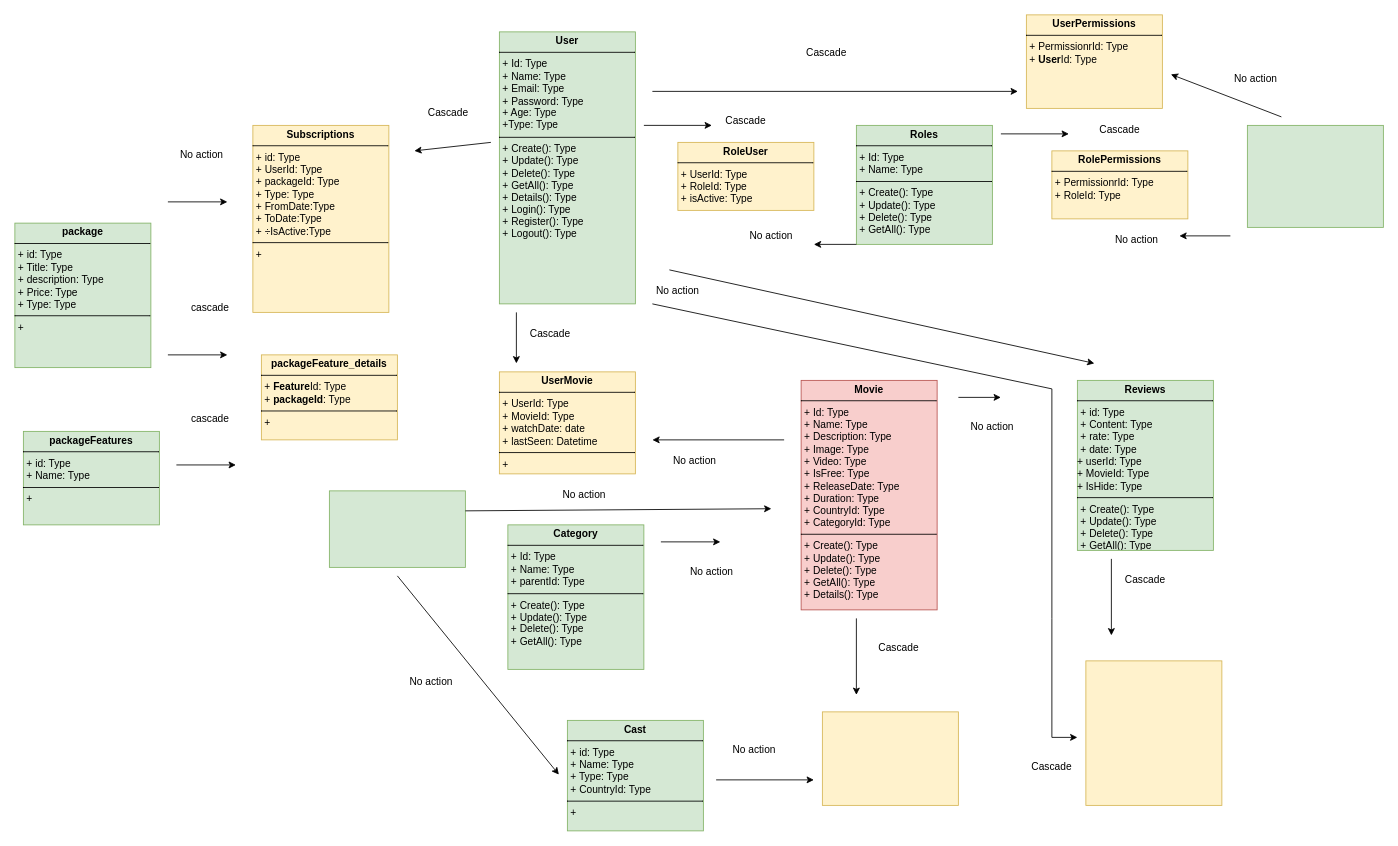
This 1398x846 diagram has some shape labels left out. Here are the shapes that lost their labels. From the top down, the centre of each, then its label:
At (x=1315, y=176): "Permissions + Id: Type + Name: Type + GetAll(): Type".
At (x=397, y=528): "Country + id: Type + Name: Type +".
At (x=1153, y=732): "Like + id: Type + userId: Type + ReviewId: Type + isLiked: Type + Like(): Type".
At (x=890, y=758): "MovieCast + Movieid: Type + CastId: Type +".
